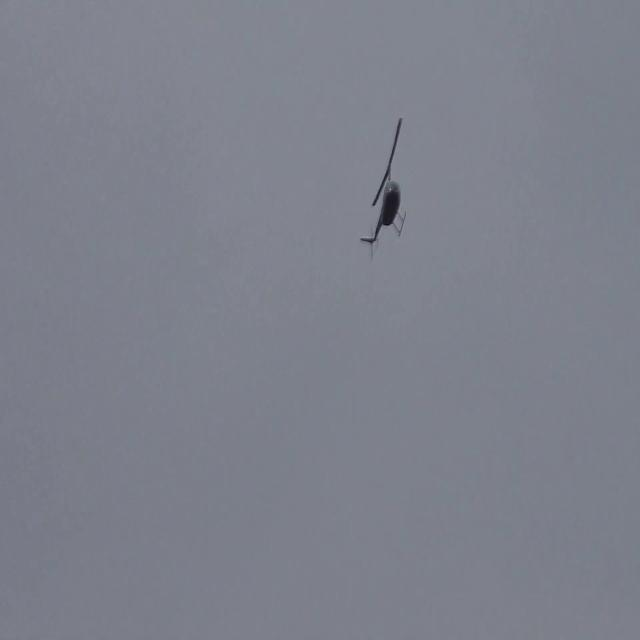CIV_HELO: (359, 164, 407, 244)
